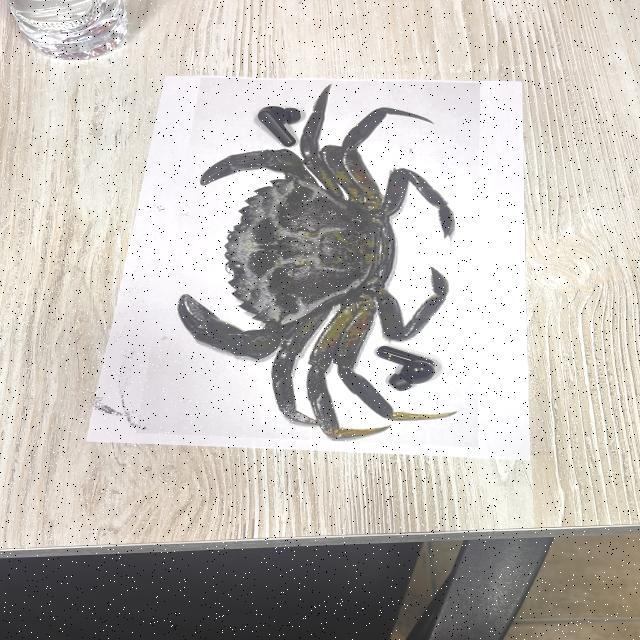European_Green_Crab: (174, 82, 459, 443)
